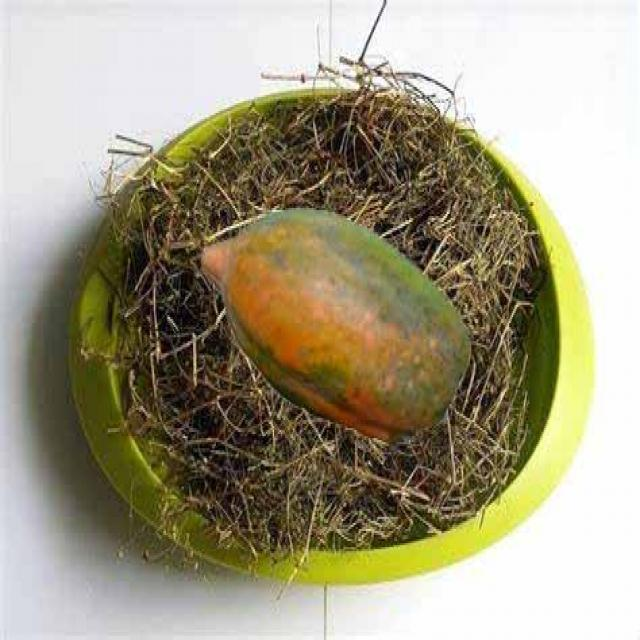Pepaya rippen: (192, 190, 468, 442)
